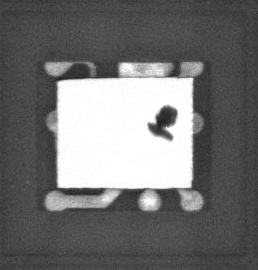DIE_INK: (140, 109, 171, 148)
